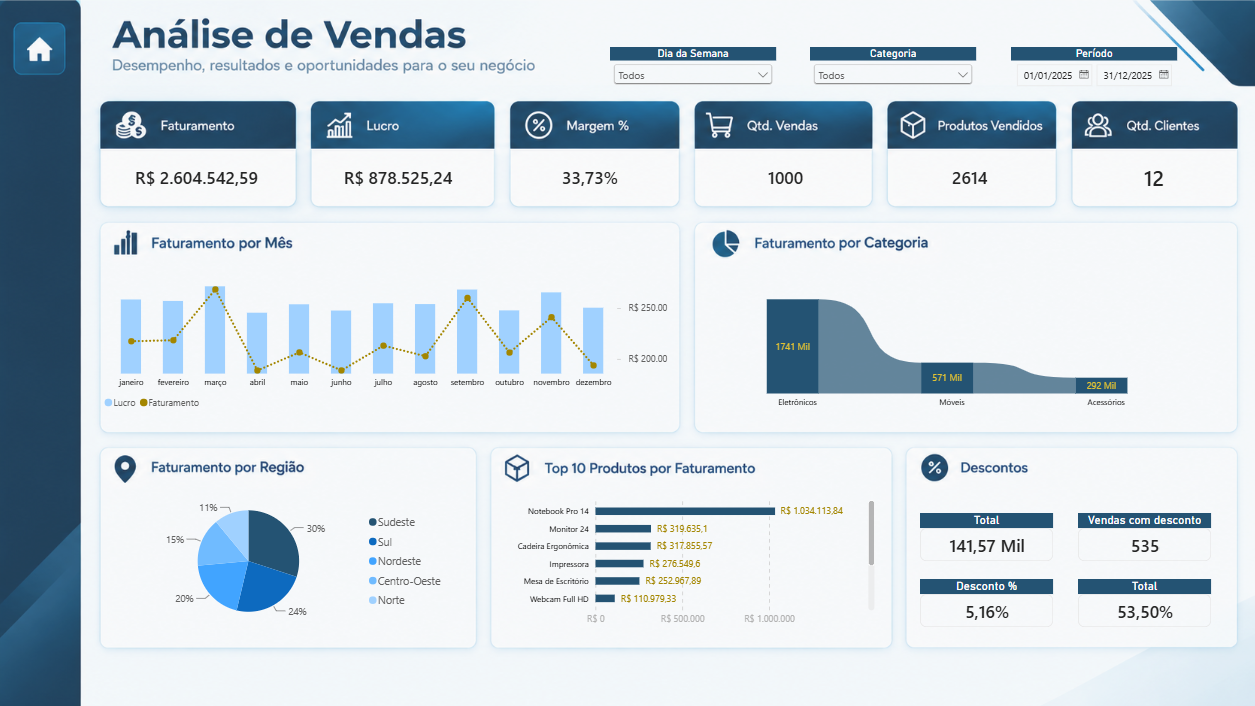

This screenshot's page, from the dashboard's own definition file:
{"tool":"powerbi","page":{"name":"Faturamento","canvas":[1920,1080],"ordinal":0},"visuals":[{"type":"cardVisual","fields":{"Data":["Medidas.Faturamento"]},"box":[288,270,204,64],"z":0},{"type":"cardVisual","fields":{"Data":["Medidas.Lucro"]},"box":[550,270,208,64],"z":1000},{"type":"cardVisual","fields":{"Data":["Medidas.Margem %"]},"box":[856,270,126,64],"z":2000},{"type":"cardVisual","fields":{"Data":["Medidas.Qtd.vendas"]},"box":[1130,270,79,64],"z":3000},{"type":"cardVisual","fields":{"Data":["Medidas.Qtd.produtos"]},"box":[1375,270,95,64],"z":4000},{"type":"cardVisual","fields":{"Data":["Medidas.Qtd.clientes"]},"box":[1631,270,66,64],"z":5000},{"type":"lineClusteredColumnComboChart","fields":{"Category":["Data.Data.Variation.Hierarquia de datas.Ano","Data.Data.Variation.Hierarquia de datas.Trimestre","Data.Data.Variation.Hierarquia de datas.Mês","Data.Data.Variation.Hierarquia de datas.Dia"],"Y":["Medidas.Lucro"],"Y2":["Medidas.Faturamento"]},"box":[247.1,424.3,781.4,207.1],"z":6000},{"type":"slicer","title":"Dia da Semana","fields":{"Values":["Data.Nome do Dia"]},"box":[937,129,221.2,67.5],"z":7000},{"type":"slicer","title":"Categoria","fields":{"Values":["Venda.Categoria"]},"box":[1202,129,221.2,67.5],"z":8000},{"type":"slicer","title":"Período","fields":{"Values":["Venda.Data"]},"box":[1470,129,221.2,67.5],"z":9000},{"type":"ribbonChart","fields":{"Category":["Venda.Categoria"],"Y":["Medidas.Faturamento"]},"box":[1047.2,423.6,688.9,206.9],"z":10000},{"type":"pieChart","fields":{"Category":["Venda.Regiao"],"Y":["Medidas.Faturamento"]},"box":[280.6,709.7,455.6,206.9],"z":11000},{"type":"clusteredBarChart","fields":{"Category":["Venda.Produto"],"Y":["Medidas.Faturamento"]},"box":[790,710,514,208],"z":12000},{"type":"cardVisual","title":"Total ","fields":{"Data":["Medidas.Desconto total"]},"box":[1349,749,177,64],"z":13000},{"type":"cardVisual","title":"Vendas com desconto","fields":{"Data":["Medidas.Vendas com desconto"]},"box":[1559,749,177,64],"z":14000},{"type":"cardVisual","title":"Desconto %","fields":{"Data":["Medidas.Desconto efetivo %"]},"box":[1349,836,177,64],"z":15000},{"type":"cardVisual","title":"Total ","fields":{"Data":["Medidas.% vendas com desconto"]},"box":[1559,836,177,64],"z":16000}]}

Visuals, with their boxes in screenshot pixels (x1, y1, x2, y2), scaled from the page's 1920x1080 canvas onto the 1255x706 screenshot:
cardVisual - Medidas.Faturamento: {"left": 188, "top": 176, "right": 322, "bottom": 218}
cardVisual - Medidas.Lucro: {"left": 360, "top": 176, "right": 495, "bottom": 218}
cardVisual - Medidas.Margem %: {"left": 560, "top": 176, "right": 642, "bottom": 218}
cardVisual - Medidas.Qtd.vendas: {"left": 739, "top": 176, "right": 790, "bottom": 218}
cardVisual - Medidas.Qtd.produtos: {"left": 899, "top": 176, "right": 961, "bottom": 218}
cardVisual - Medidas.Qtd.clientes: {"left": 1066, "top": 176, "right": 1109, "bottom": 218}
lineClusteredColumnComboChart - Data.Data.Variation.Hierarquia de datas.Ano x Data.Data.Variation.Hierarquia de datas.Trimestre: {"left": 162, "top": 277, "right": 672, "bottom": 413}
"Dia da Semana" slicer: {"left": 612, "top": 84, "right": 757, "bottom": 128}
"Categoria" slicer: {"left": 786, "top": 84, "right": 930, "bottom": 128}
"Período" slicer: {"left": 961, "top": 84, "right": 1105, "bottom": 128}
ribbonChart - Venda.Categoria x Medidas.Faturamento: {"left": 684, "top": 277, "right": 1135, "bottom": 412}
pieChart - Venda.Regiao x Medidas.Faturamento: {"left": 183, "top": 464, "right": 481, "bottom": 599}
clusteredBarChart - Venda.Produto x Medidas.Faturamento: {"left": 516, "top": 464, "right": 852, "bottom": 600}
"Total " cardVisual: {"left": 882, "top": 490, "right": 997, "bottom": 531}
"Vendas com desconto" cardVisual: {"left": 1019, "top": 490, "right": 1135, "bottom": 531}
"Desconto %" cardVisual: {"left": 882, "top": 546, "right": 997, "bottom": 588}
"Total " cardVisual: {"left": 1019, "top": 546, "right": 1135, "bottom": 588}
